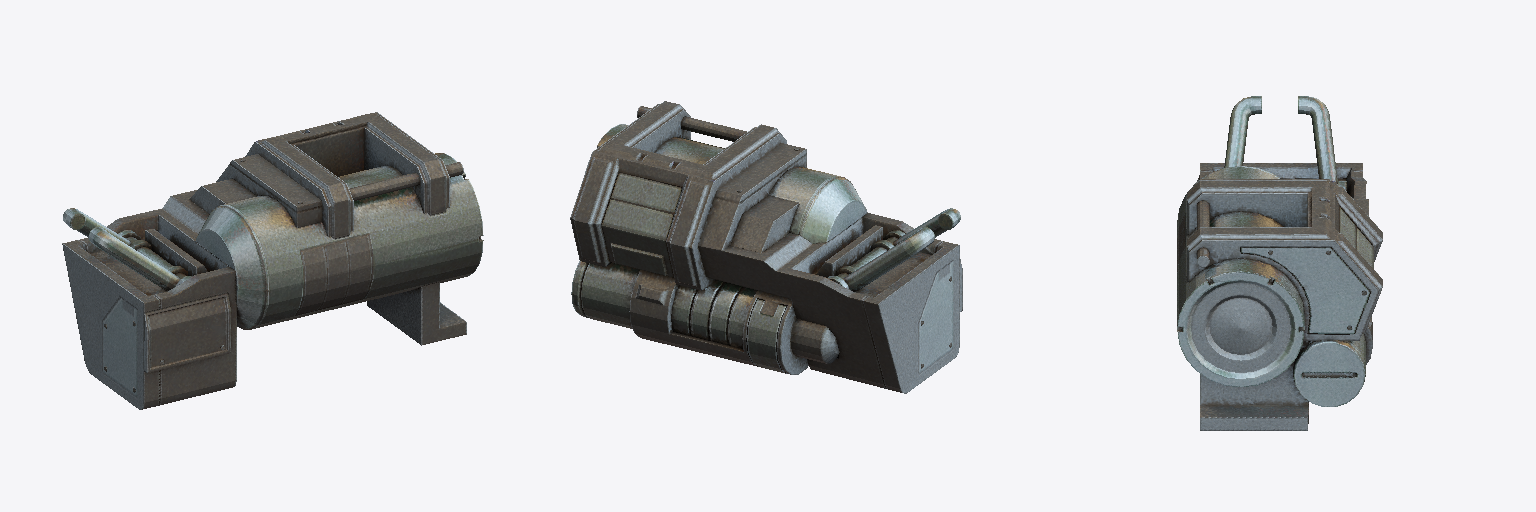
3 renders of one model, left to right at view 1: azimuth 30°, elevation 25°; view 2: azimuth 150°, elevation 25°; view 3: azimuth 270°, elevation 25°, orthographic.
Visible parts, largest first — view 1: lowpoly; view 2: lowpoly; view 3: lowpoly.
Part boxes in pixels (left/top/right/bottom): lowpoly: left=62, top=112, right=483, bottom=409; lowpoly: left=570, top=101, right=962, bottom=393; lowpoly: left=1177, top=96, right=1382, bottom=430.
Bounding box in the file's own units: 99.55 × 49.14 × 50.36.
Materials: 1 (1 with a texture image).